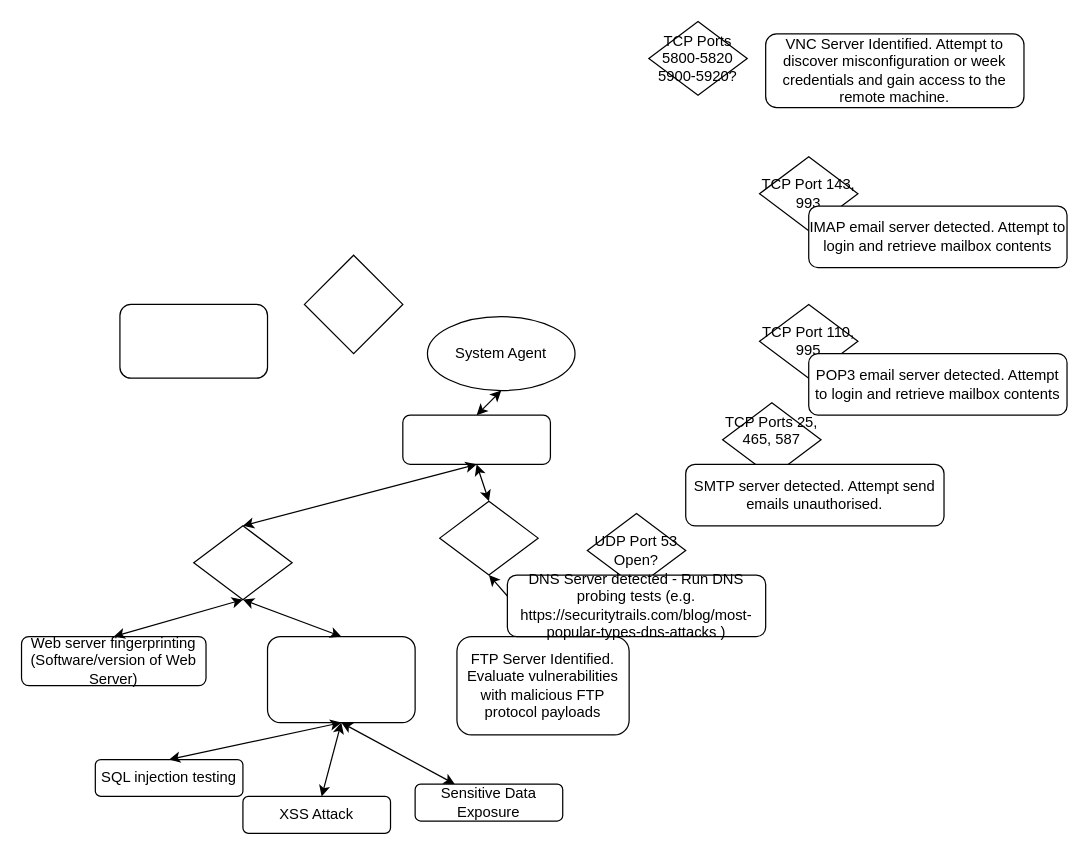
Some shapes in this 1089 by 855 pixel diagram are drawn without their labels. The shapes that lost their labels are listed below. From the top down, each one's centre as x and y in pixels, then its label:
point (353, 304): Any UDP port?
point (193, 340): UDP DDOS Amplification Attack
point (476, 439): Port Scanning evaluation
point (488, 537): TCP Port 21 Open?
point (242, 562): TCP Ports 80/443 Open?
point (340, 679): Web Application identified. OWASP suite of tests applicable
